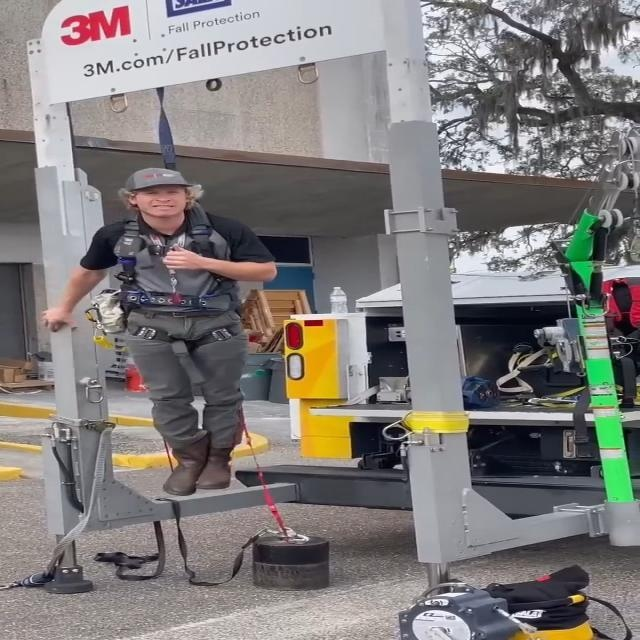Arnes_seguridad: (110, 215, 251, 353)
